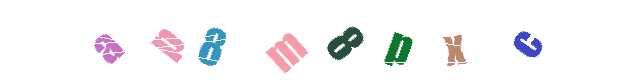8: (204, 0, 284, 80), (316, 0, 396, 80)
A: (68, 0, 148, 80)
C: (487, 0, 567, 80)
M: (275, 0, 355, 80)
P: (172, 0, 252, 80), (330, 0, 410, 80)
X: (410, 0, 490, 80)
